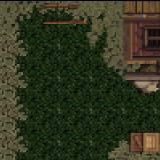Hide: (123, 123, 160, 160)
Interaction: (38, 0, 79, 29)
Obstacle: (66, 0, 160, 98)
